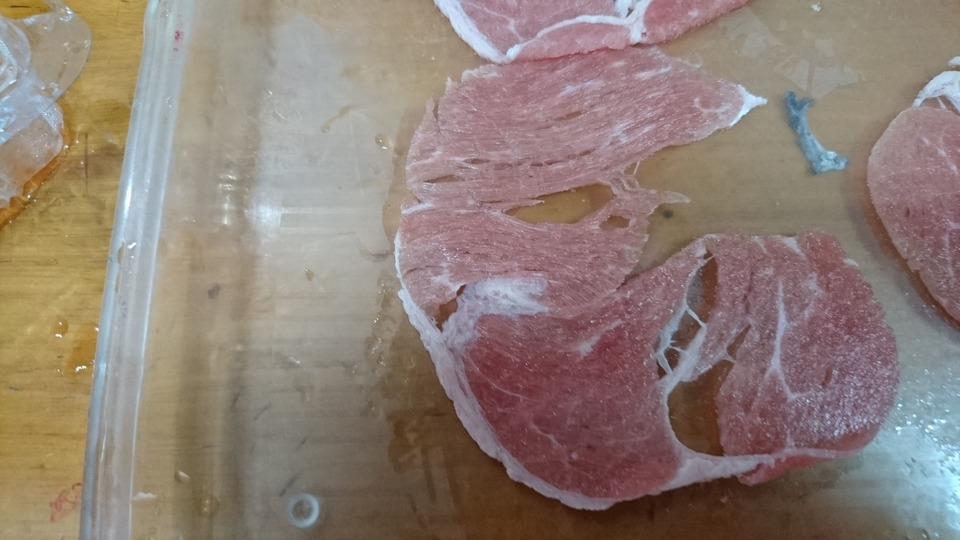restructured meat: (384, 78, 876, 491), (864, 52, 960, 302), (438, 2, 781, 63)
